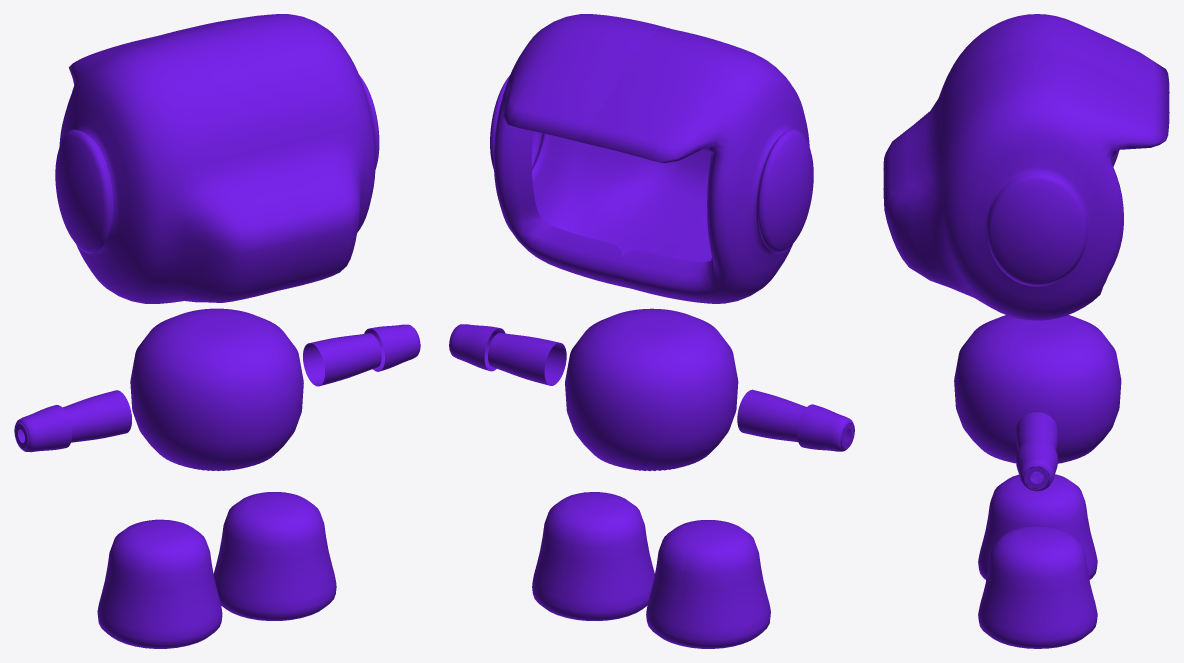
Rendered from bodyRobot.glb.
The picture shows the model from 3 angles, left to right: view 1: azimuth 30°, elevation 25°; view 2: azimuth 150°, elevation 25°; view 3: azimuth 270°, elevation 25°; orthographic projection. The views are drawn at different scales.
Visible parts, largest first — view 1: bodyFrame; view 2: bodyFrame; view 3: bodyFrame.
Boxes of the visible parts, bbox=[...] form: bodyFrame: bbox=[14, 14, 420, 648]; bodyFrame: bbox=[449, 14, 854, 648]; bodyFrame: bbox=[883, 14, 1169, 648].
Bounding box in the file's own units: 4.32 × 6.14 × 2.86.
